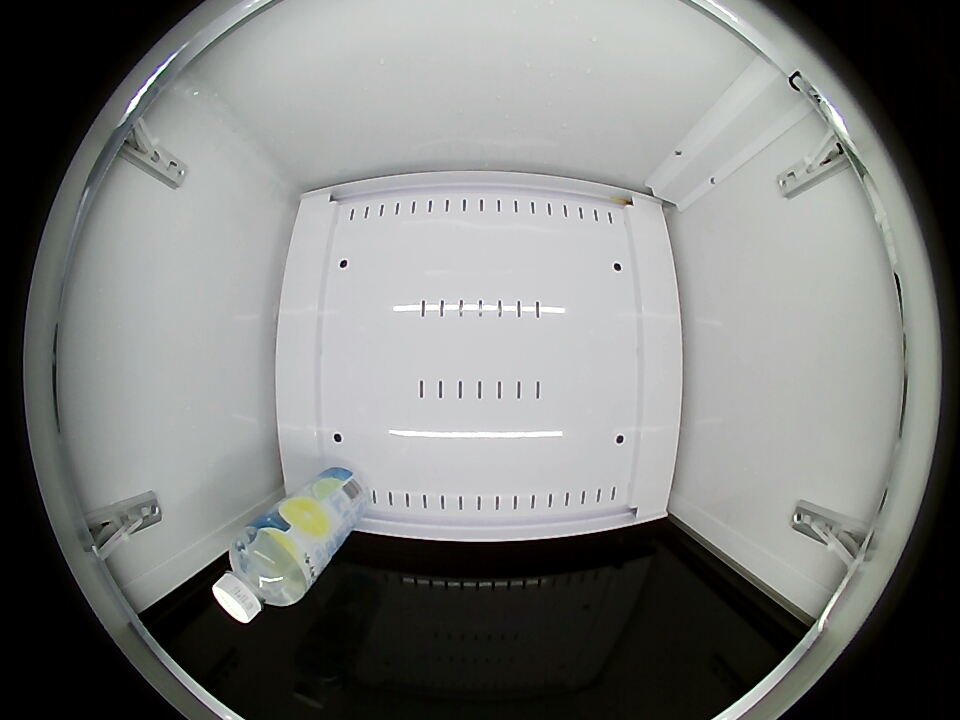qinningshui: (212, 526, 312, 624)
